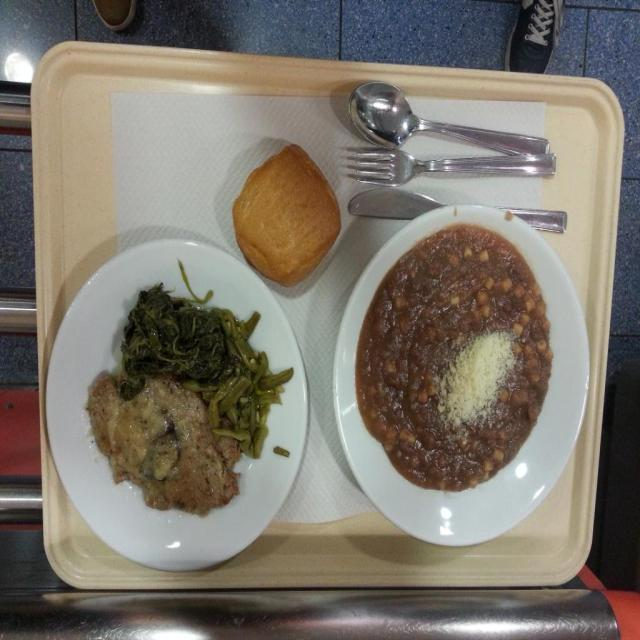plate: (331, 204, 588, 552), (44, 235, 309, 571), (228, 137, 343, 285)
